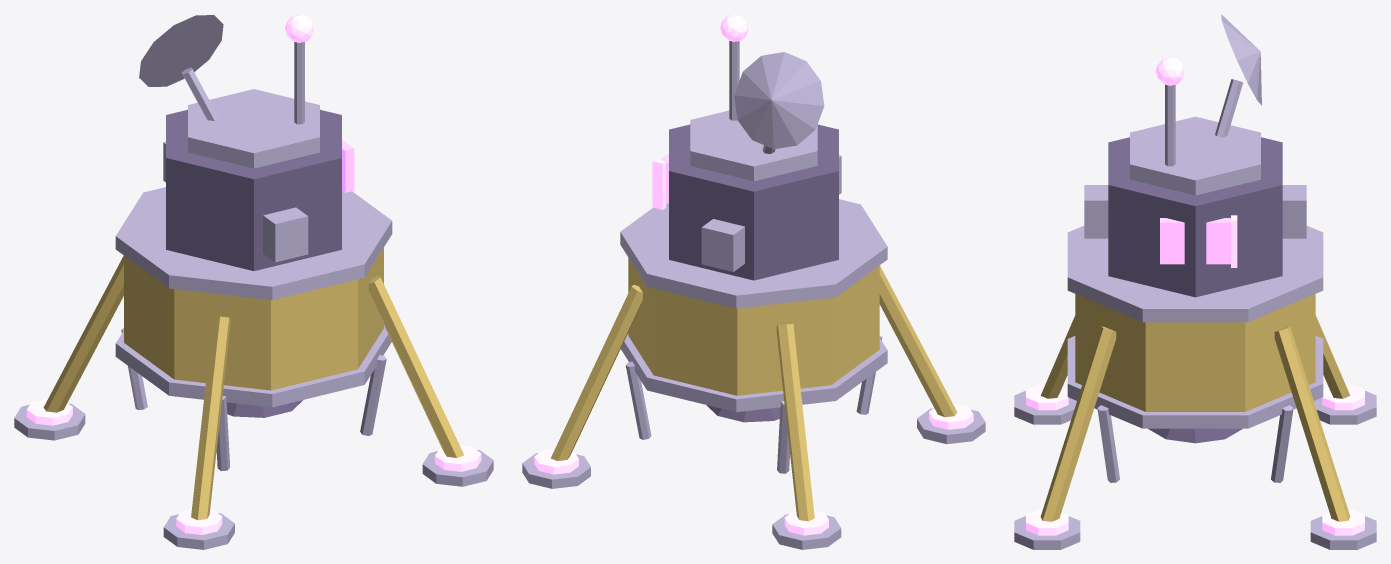
The model's file is past_landing_lander.glb.
3 renders of one model, left to right at view 1: azimuth 30°, elevation 25°; view 2: azimuth 150°, elevation 25°; view 3: azimuth 270°, elevation 25°, orthographic. The views are drawn at different scales.
Parts seen in each view (by area): view 1: descent_stage, cabin, frame_band_top, cabin_cap, frame_band_bottom, dish, leg_1, leg_0, leg_2, rcs_pod_r, footpad_1, footpad_0 (+11 smaller); view 2: descent_stage, cabin, frame_band_top, dish, cabin_cap, frame_band_bottom, leg_2, leg_3, leg_1, rcs_pod_l, footpad_2, footpad_1 (+10 smaller); view 3: descent_stage, cabin, frame_band_top, cabin_cap, frame_band_bottom, leg_0, leg_3, window, dish, rcs_pod_l, rcs_pod_r, footpad_0 (+15 smaller).
Part boxes in pixels (x1,y1,x2,y2): descent_stage: [124, 247, 383, 390]; cabin: [166, 109, 341, 270]; frame_band_top: [115, 187, 392, 300]; cabin_cap: [188, 89, 319, 168]; frame_band_bottom: [115, 325, 391, 407]; dish: [139, 15, 223, 86]; leg_1: [191, 315, 230, 520]; leg_0: [368, 275, 463, 457]; leg_2: [43, 255, 123, 412]; rcs_pod_r: [263, 207, 308, 262]; footpad_1: [163, 513, 234, 549]; footpad_0: [422, 450, 493, 486]; descent_stage: [628, 258, 879, 395]; cabin: [669, 124, 838, 280]; frame_band_top: [620, 199, 887, 308]; dish: [734, 52, 824, 149]; cabin_cap: [690, 110, 817, 181]; frame_band_bottom: [621, 333, 887, 412]; leg_2: [776, 323, 814, 521]; leg_3: [550, 284, 642, 460]; leg_1: [879, 265, 957, 417]; rcs_pod_l: [701, 219, 744, 271]; footpad_2: [772, 514, 841, 549]; footpad_1: [917, 408, 985, 444]; descent_stage: [1075, 294, 1315, 411]; cabin: [1108, 137, 1282, 297]; frame_band_top: [1067, 226, 1323, 322]; cabin_cap: [1130, 116, 1260, 195]; frame_band_bottom: [1067, 336, 1323, 428]; leg_0: [1040, 326, 1116, 521]; leg_3: [1274, 326, 1350, 521]; window: [1160, 218, 1230, 264]; dish: [1221, 14, 1261, 105]; rcs_pod_l: [1282, 185, 1306, 238]; rcs_pod_r: [1084, 185, 1108, 238]; footpad_0: [1014, 516, 1080, 549].
Size of the model in its own units: 1.73 by 2.27 by 1.73.
